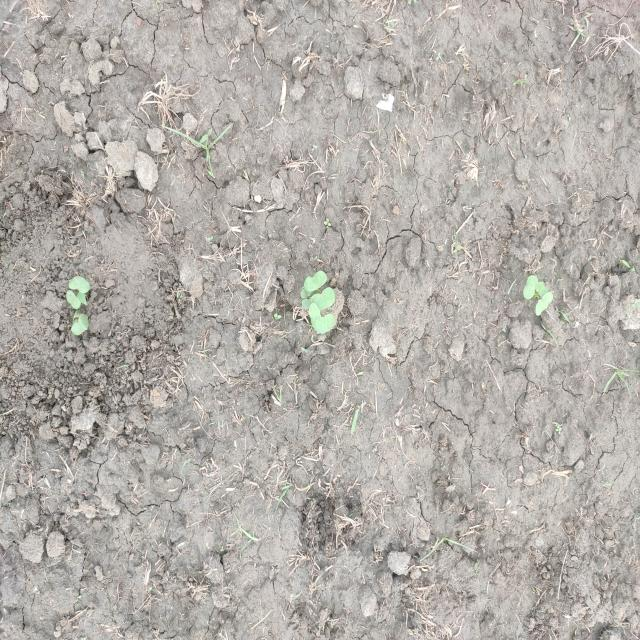seedling_s4: (311, 287, 335, 311), (304, 271, 327, 291), (535, 292, 553, 316), (314, 314, 335, 334), (71, 314, 88, 335), (69, 277, 90, 293), (523, 275, 537, 299), (309, 303, 322, 328), (66, 290, 80, 310), (536, 281, 548, 297), (77, 292, 87, 305), (300, 289, 313, 298), (73, 310, 82, 322), (302, 298, 311, 309)
